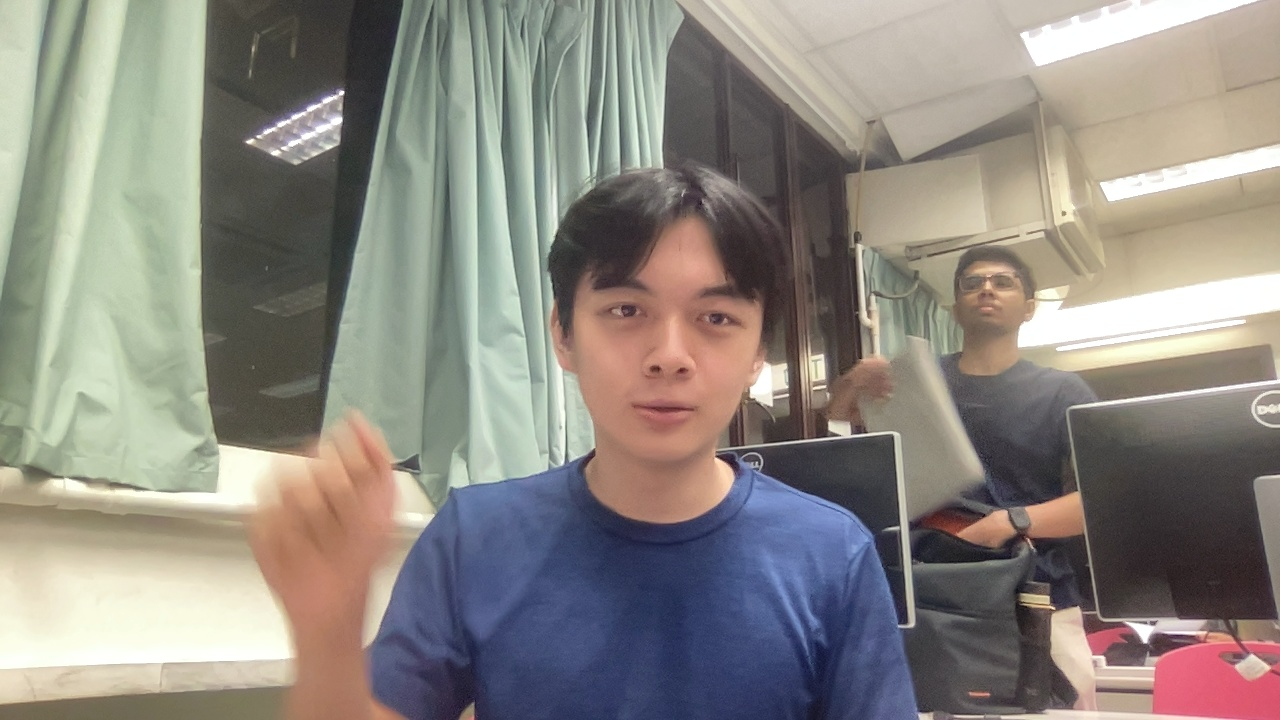yes: (236, 431, 420, 617)
